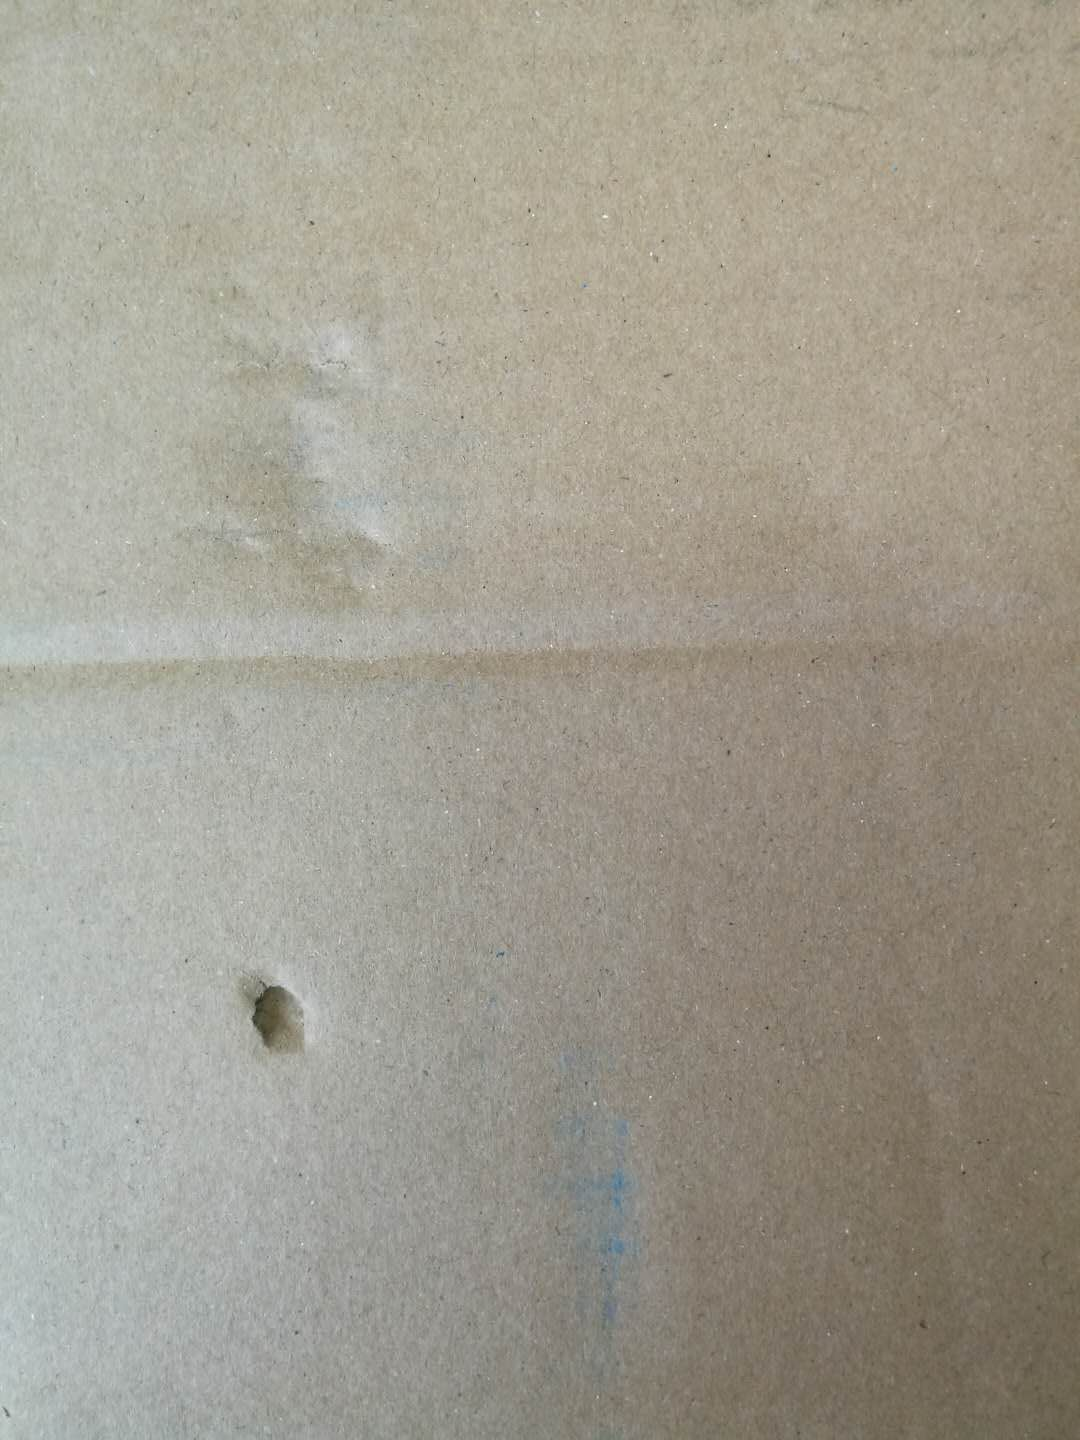defect: (5, 593, 1080, 734), (159, 273, 459, 627), (222, 938, 334, 1090)
